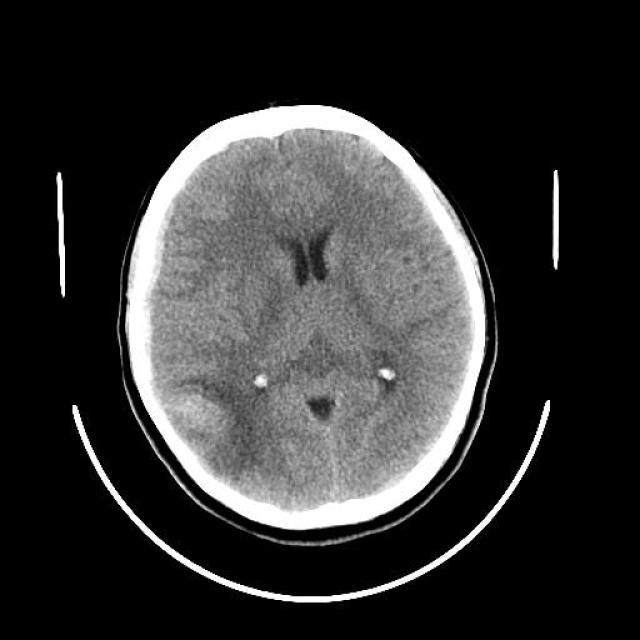Intraparenchymal: (164, 369, 236, 461)
Subdural: (110, 188, 181, 406)
